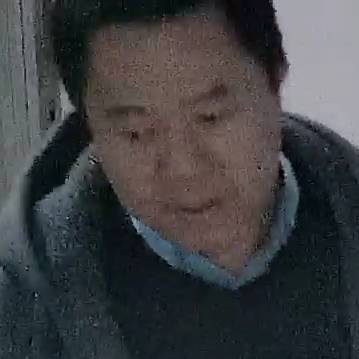cb: (69, 22, 310, 266)
